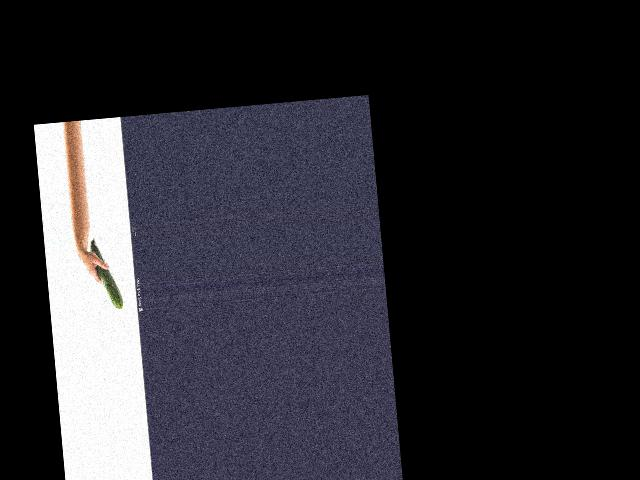cucumber: (89, 235, 123, 311)
